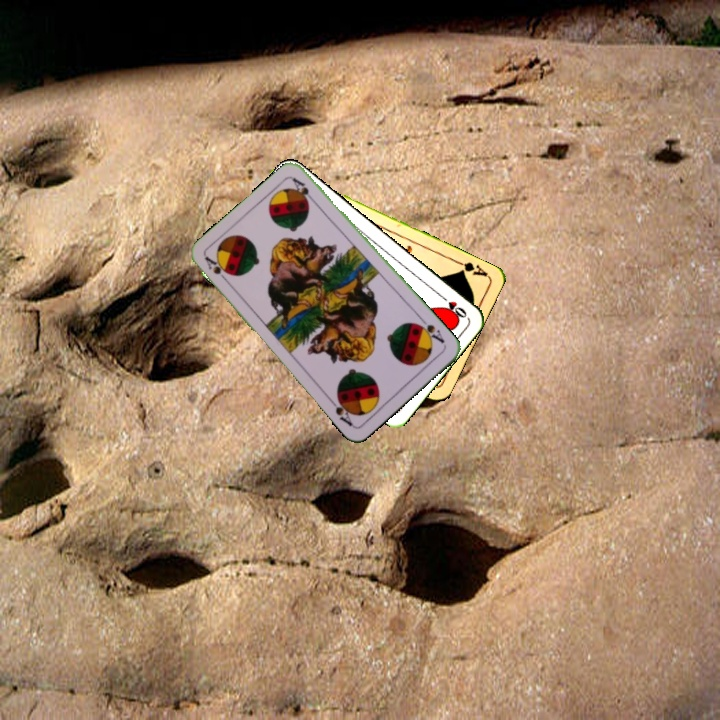GA: (451, 256, 491, 279)
HO: (435, 290, 469, 320)
SA: (412, 314, 447, 346), (201, 252, 233, 286)
